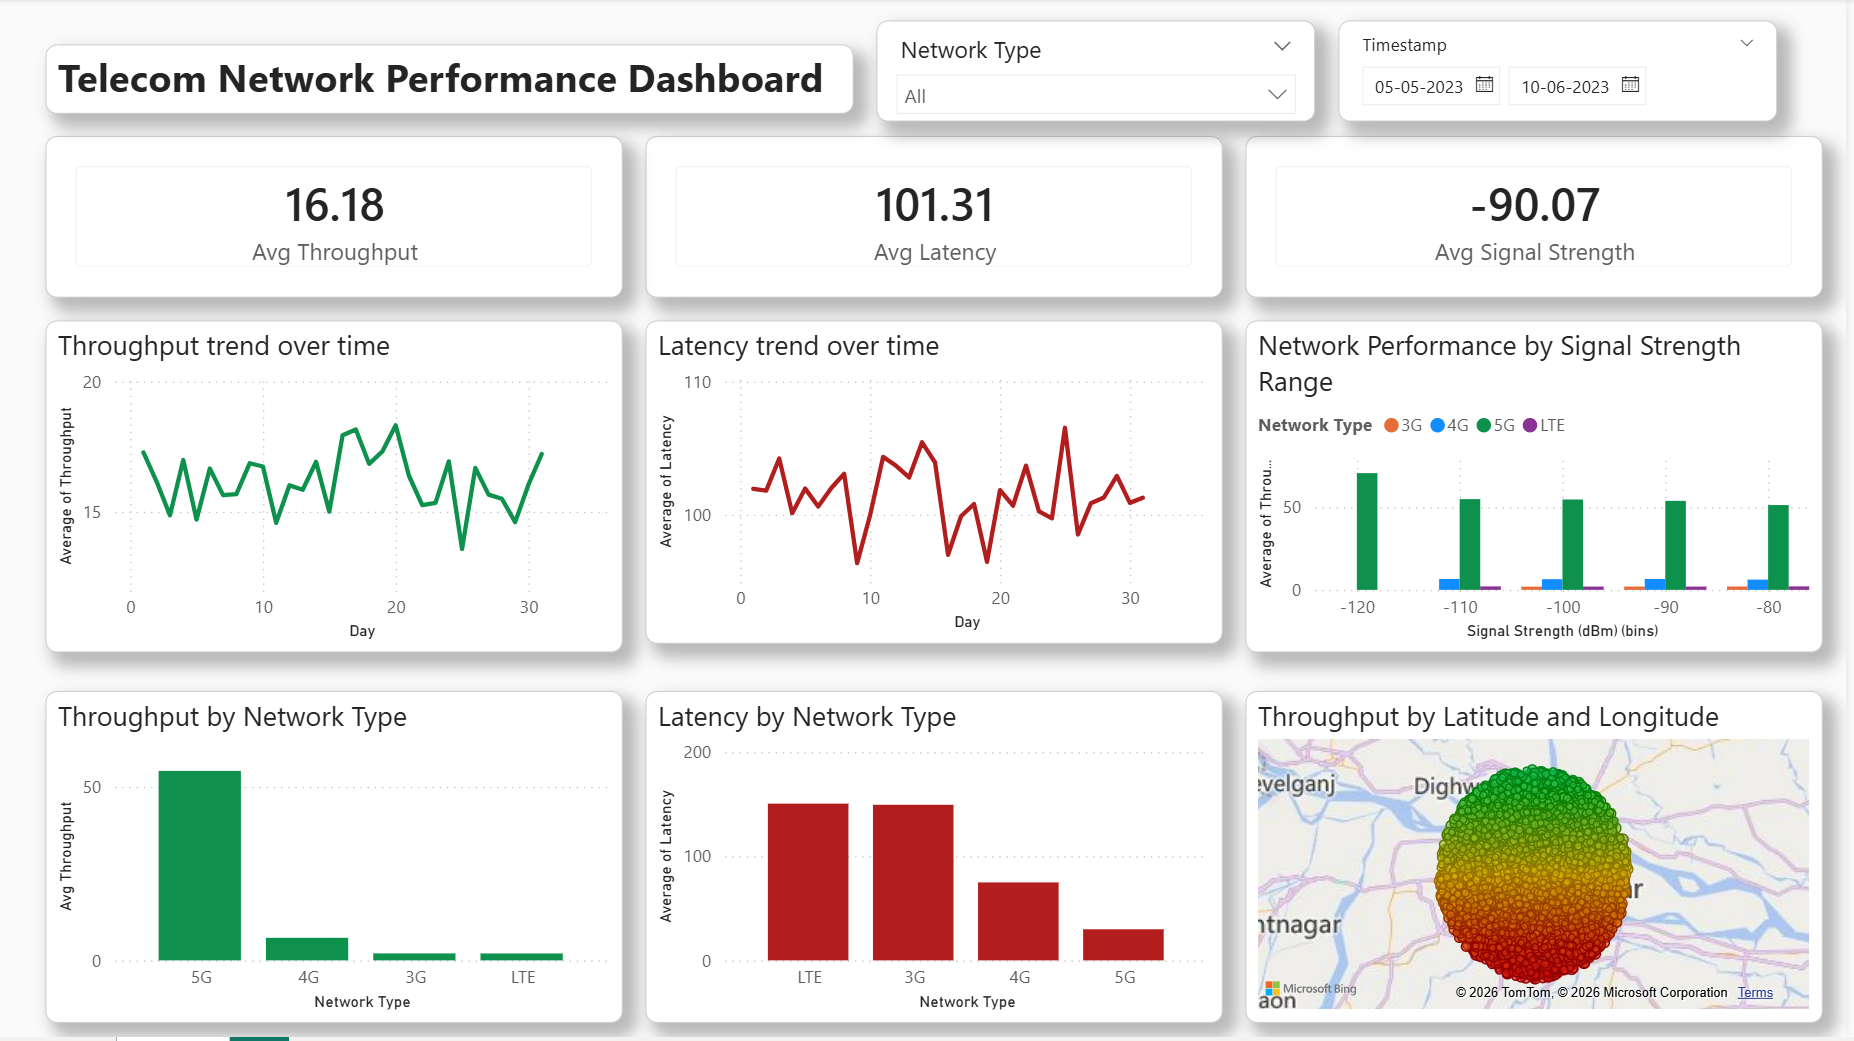

The page's visual inventory and layout, read from the dashboard file:
{"tool":"powerbi","page":{"name":"Page 1","canvas":[1280,720],"ordinal":0},"visuals":[{"type":"cardVisual","fields":{"Data":["signal_metrics.Avg Latency"]},"box":[448,96,400,112],"z":0},{"type":"cardVisual","fields":{"Data":["signal_metrics.Avg SigStrength"]},"box":[864,96,400,112],"z":1000},{"type":"cardVisual","fields":{"Data":["signal_metrics.Avg Throughput"]},"box":[32,96,400,112],"z":2000},{"type":"lineChart","title":"Throughput trend over time","fields":{"Category":["signal_metrics.Timestamp.Variation.Date Hierarchy.Year","signal_metrics.Timestamp.Variation.Date Hierarchy.Quarter","signal_metrics.Timestamp.Variation.Date Hierarchy.Month","signal_metrics.Timestamp.Variation.Date Hierarchy.Day"],"Y":["Avg(signal_metrics.Throughput)"]},"box":[32,224,400,230],"z":3000},{"type":"lineChart","title":"Latency trend over time","fields":{"Category":["signal_metrics.Timestamp.Variation.Date Hierarchy.Year","signal_metrics.Timestamp.Variation.Date Hierarchy.Quarter","signal_metrics.Timestamp.Variation.Date Hierarchy.Month","signal_metrics.Timestamp.Variation.Date Hierarchy.Day"],"Y":["Avg(signal_metrics.Latency)"]},"box":[448,224,400,224],"z":4000},{"type":"clusteredColumnChart","title":"Throughput by Network Type","fields":{"Category":["signal_metrics.Network Type"],"Y":["signal_metrics.Avg Throughput"]},"box":[32,480,400,230],"z":5000},{"type":"clusteredColumnChart","title":"Latency by Network Type","fields":{"Category":["signal_metrics.Network Type"],"Y":["Avg(signal_metrics.Latency)"]},"box":[448,480,400,230],"z":6000},{"type":"map","title":"Throughput by Latitude and Longitude","fields":{"Y":["signal_metrics.Latitude"],"X":["signal_metrics.Longitude"],"Size":["Avg(signal_metrics.Throughput)"]},"box":[864,480,400,230],"z":7000},{"type":"textbox","title":"Telecom Network Performance Dashboard","box":[32,32,560,48],"z":8000},{"type":"slicer","fields":{"Values":["signal_metrics.Network Type"]},"box":[608,16,304,70],"z":9000},{"type":"slicer","fields":{"Values":["signal_metrics.Timestamp"]},"box":[928,16,304,70],"z":10000},{"type":"clusteredColumnChart","title":"Network Performance by Signal Strength Range","fields":{"Category":["signal_metrics.Signal Strength (dBm) (bins)"],"Y":["Avg(signal_metrics.Throughput)"],"Series":["signal_metrics.Network Type"]},"box":[864,224,400,230],"z":11000}]}

Visuals, with their boxes in screenshot pixels (x1, y1, x2, y2), scaled from the page's 1280x720 canvas onto the 1854x1041 screenshot:
cardVisual - signal_metrics.Avg Latency: [649, 139, 1228, 301]
cardVisual - signal_metrics.Avg SigStrength: [1251, 139, 1831, 301]
cardVisual - signal_metrics.Avg Throughput: [46, 139, 626, 301]
"Throughput trend over time" lineChart: [46, 324, 626, 656]
"Latency trend over time" lineChart: [649, 324, 1228, 648]
"Throughput by Network Type" clusteredColumnChart: [46, 694, 626, 1027]
"Latency by Network Type" clusteredColumnChart: [649, 694, 1228, 1027]
"Throughput by Latitude and Longitude" map: [1251, 694, 1831, 1027]
"Telecom Network Performance Dashboard" textbox: [46, 46, 857, 116]
slicer - signal_metrics.Network Type: [881, 23, 1321, 124]
slicer - signal_metrics.Timestamp: [1344, 23, 1784, 124]
"Network Performance by Signal Strength Range" clusteredColumnChart: [1251, 324, 1831, 656]
